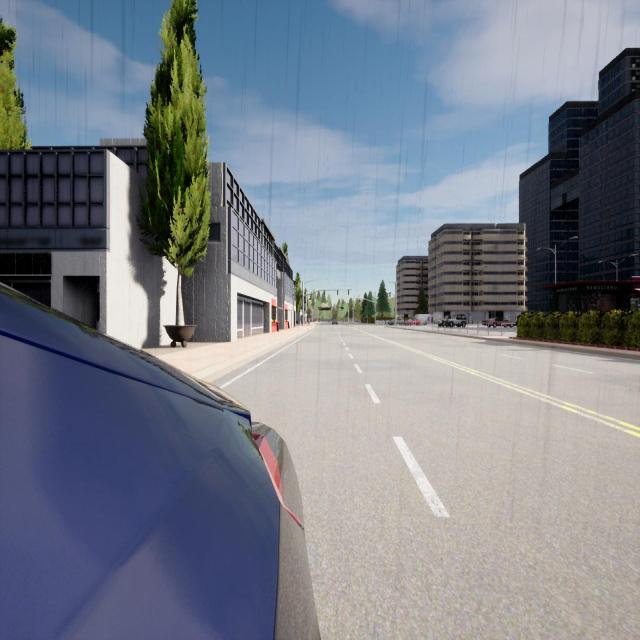Vehicle: (0, 284, 319, 638), (482, 317, 516, 328), (448, 314, 466, 328), (412, 314, 432, 325), (438, 316, 449, 328), (390, 318, 404, 326), (405, 319, 420, 325), (332, 318, 338, 325)
traffic_light: (394, 306, 395, 312), (348, 289, 349, 295), (324, 290, 325, 295), (337, 290, 338, 295), (375, 309, 376, 313), (387, 294, 388, 298), (359, 298, 360, 302), (342, 298, 342, 302), (350, 298, 350, 302), (390, 292, 390, 296)
